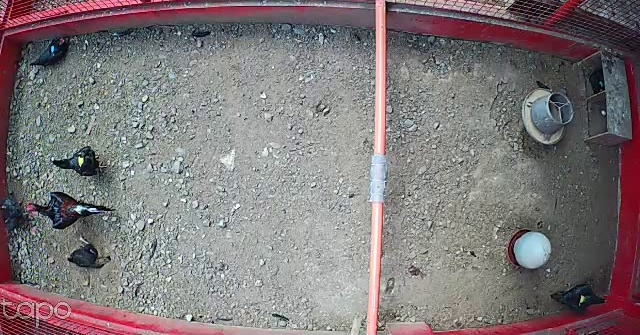Chicken: (547, 281, 612, 313), (51, 143, 104, 179), (66, 234, 116, 271), (0, 192, 40, 233), (29, 35, 70, 71)
Rooster: (23, 188, 115, 232)
Saddle_Color_Blue: (52, 45, 57, 54)
Saddle_Color_Yellow: (78, 156, 85, 166)
Saddle_Color_YellowGreen: (578, 295, 588, 307)
